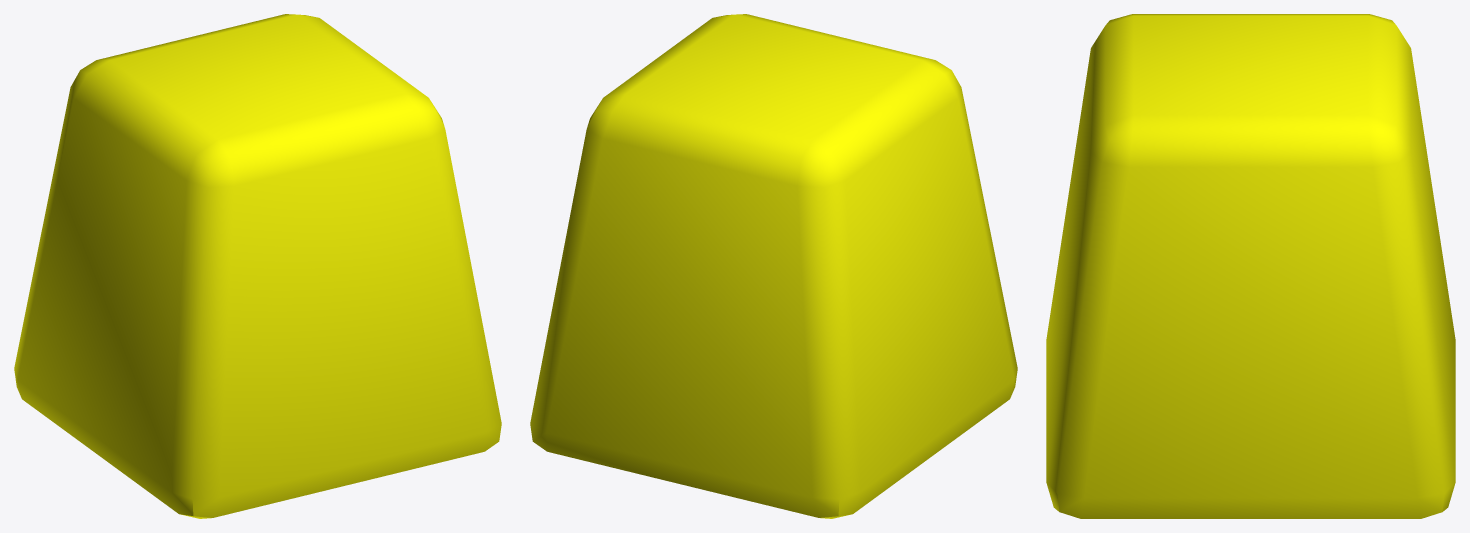
File: kaykit-rock-2-c-color-1.glb
3 views of the same model, side by side, from view 1: azimuth 30°, elevation 25°; view 2: azimuth 150°, elevation 25°; view 3: azimuth 270°, elevation 25° (orthographic). The views are drawn at different scales.
Parts seen in each view (by area): view 1: Rock_2_C_Color1; view 2: Rock_2_C_Color1; view 3: Rock_2_C_Color1.
Boxes of the visible parts, left/top/right/bottom form: Rock_2_C_Color1: left=14, top=14, right=501, bottom=518; Rock_2_C_Color1: left=530, top=14, right=1017, bottom=518; Rock_2_C_Color1: left=1046, top=14, right=1455, bottom=518.
Bounding box in the file's own units: 1.3 × 1.33 × 1.3.
